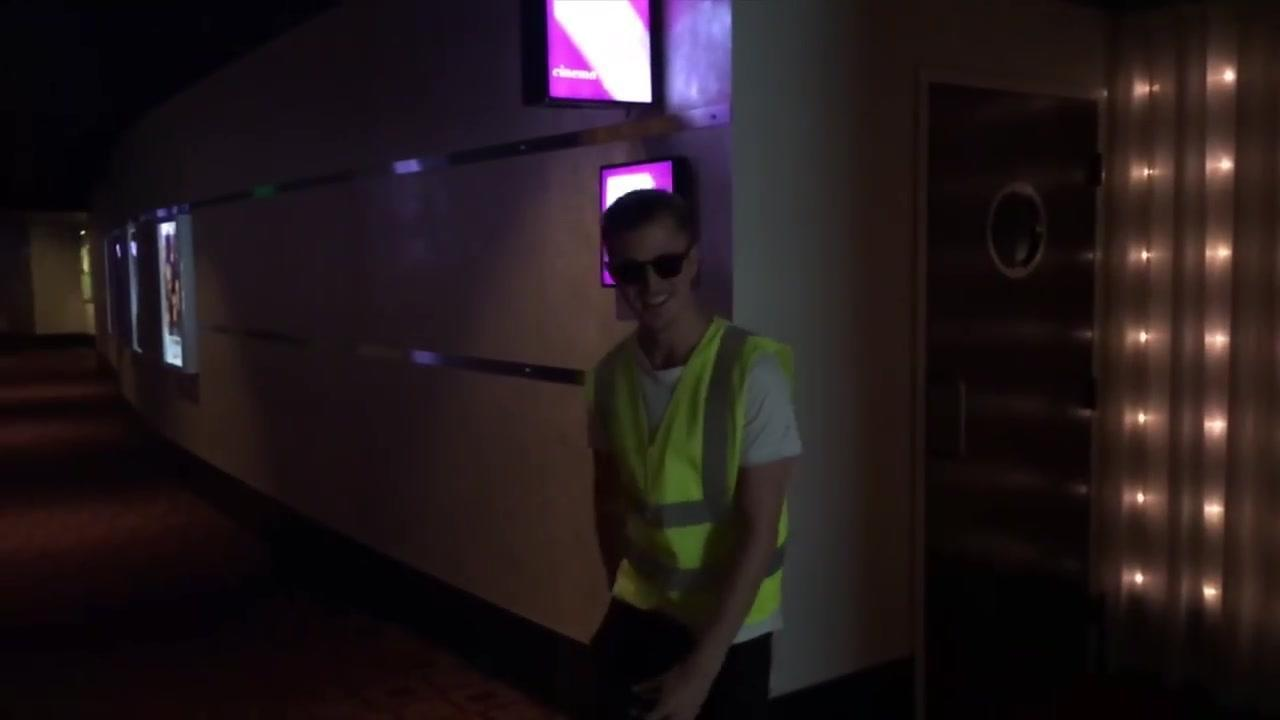vest: (585, 314, 801, 626)
